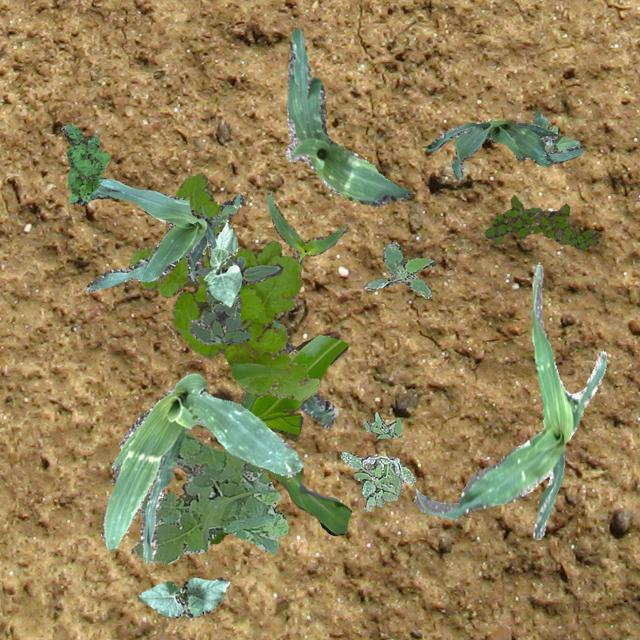crop: (412, 264, 606, 538), (100, 372, 302, 562), (237, 322, 351, 534), (284, 28, 410, 206), (84, 176, 243, 292), (424, 120, 584, 178), (266, 190, 348, 268), (280, 340, 338, 428), (136, 576, 228, 618), (202, 220, 242, 306)
weed: (128, 172, 318, 400), (130, 430, 288, 562), (188, 256, 282, 344), (483, 194, 598, 248), (340, 450, 414, 510), (364, 240, 434, 298), (60, 123, 109, 204), (532, 110, 578, 150), (362, 412, 402, 438), (208, 530, 228, 542)
